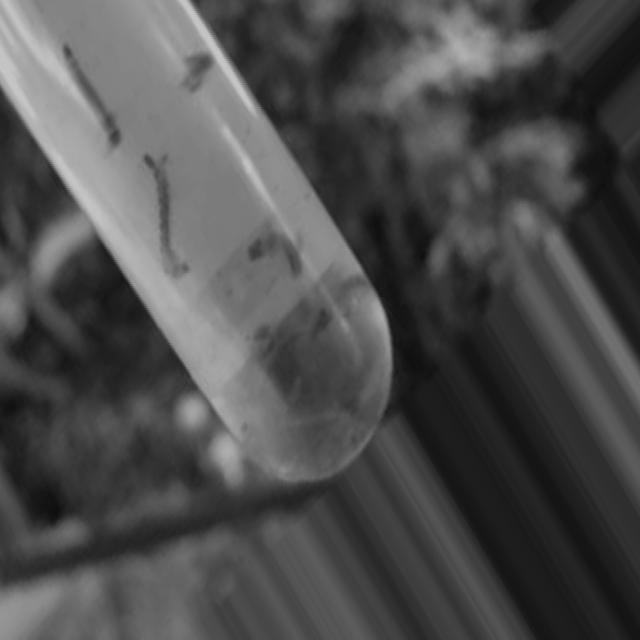larvas: (64, 44, 120, 145), (247, 402, 349, 440), (314, 264, 360, 336), (250, 227, 300, 281), (252, 314, 294, 366), (181, 47, 213, 90)
